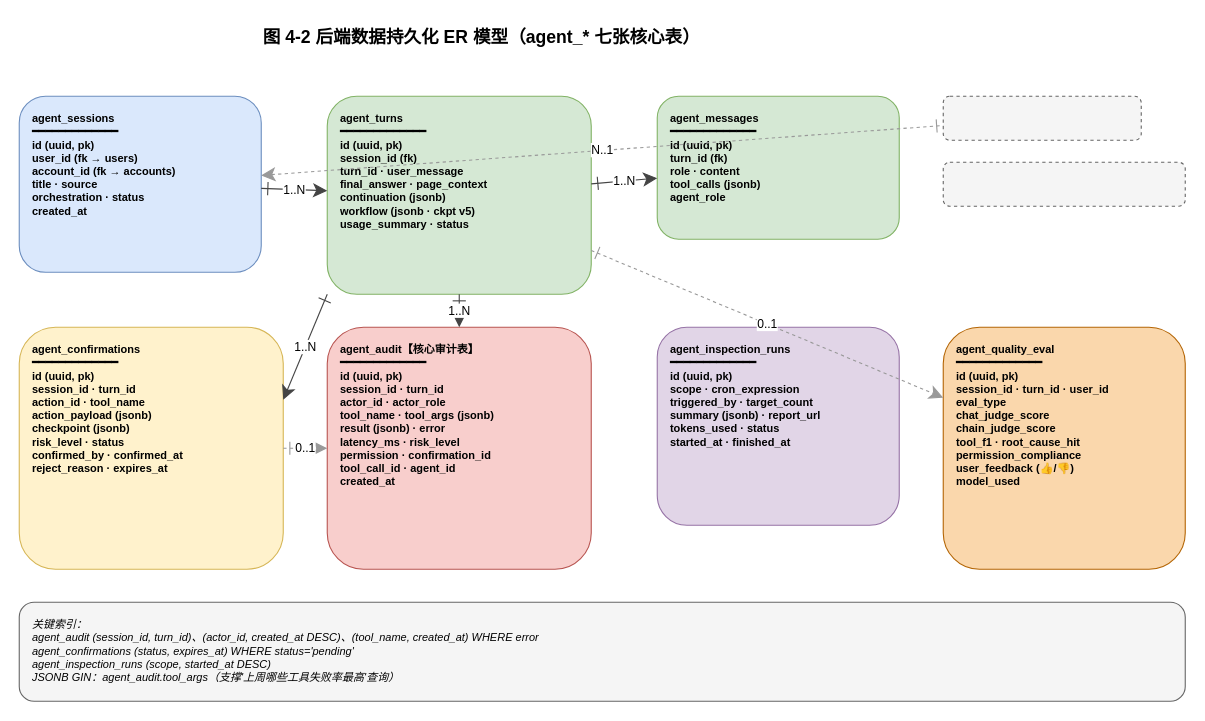
Some shapes in this 1205 by 721 pixel diagram are drawn without their labels. The shapes that lost their labels are listed below. From the top down, each one's box as (x1, y1, x2, y2) in pixels, then its label:
(942, 95, 1141, 140): users（原平台表）
(942, 161, 1185, 206): jobs / accounts / alerts（原平台表）
